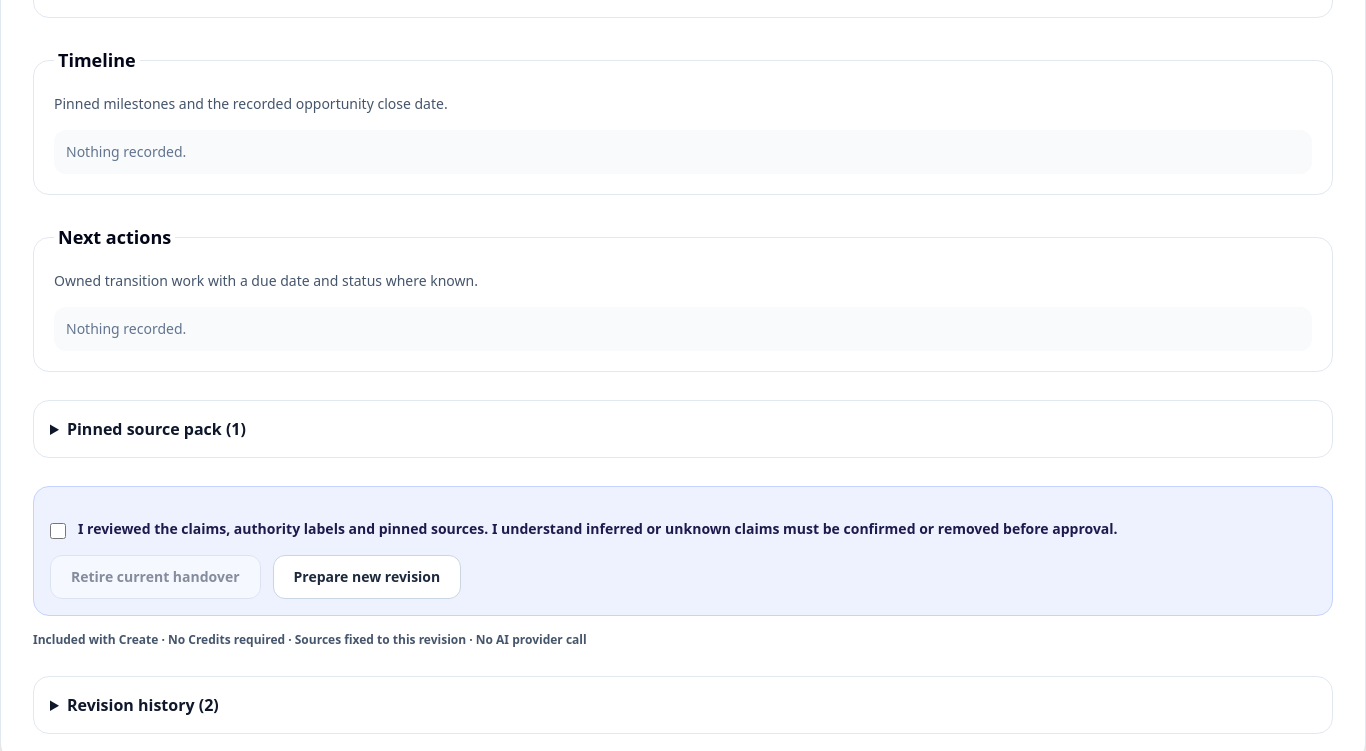
it: ClosedWonHandover › renders an approved immutable document and opens retired history
(page scrolled)
Click the heading "Revision history (2)" at (143, 705), box [67,694,219,716]
(page scrolled)
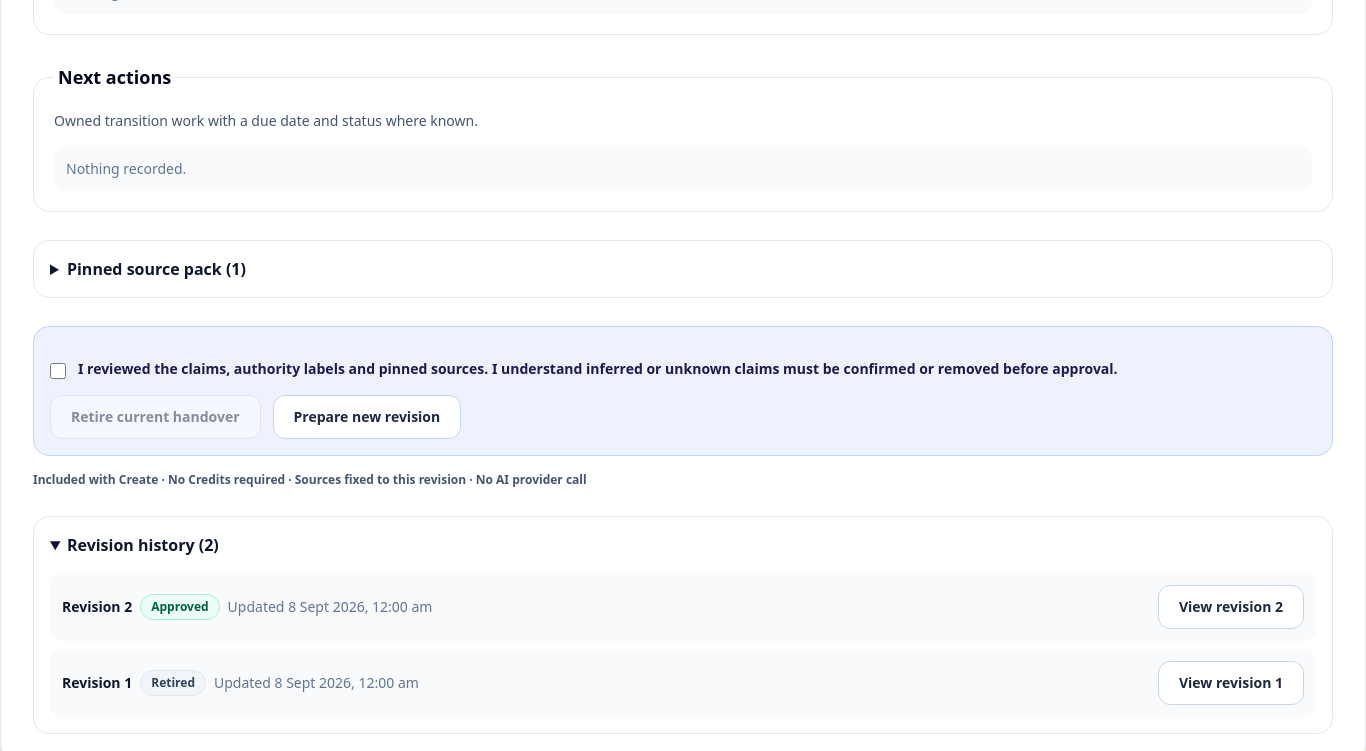
Check: the text "Revision history" is shown, box [67,534,204,556]
Click the button "View revision 1" at (1231, 683), box [1158,661,1304,705]
(page scrolled)
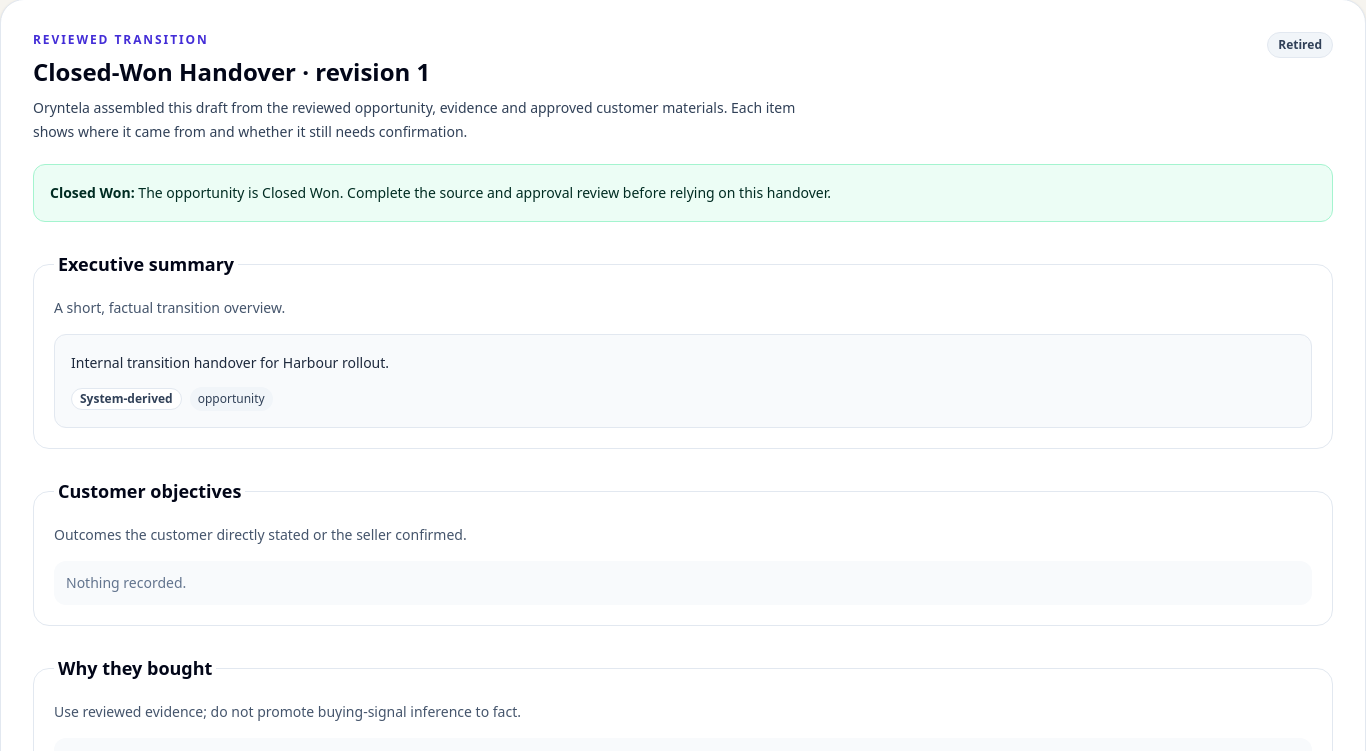
Check: the heading "Closed-Won Handover · revision 1" is shown, box [33,55,430,88]
Check: the text "retired" is shown, box [1267,32,1333,58]
